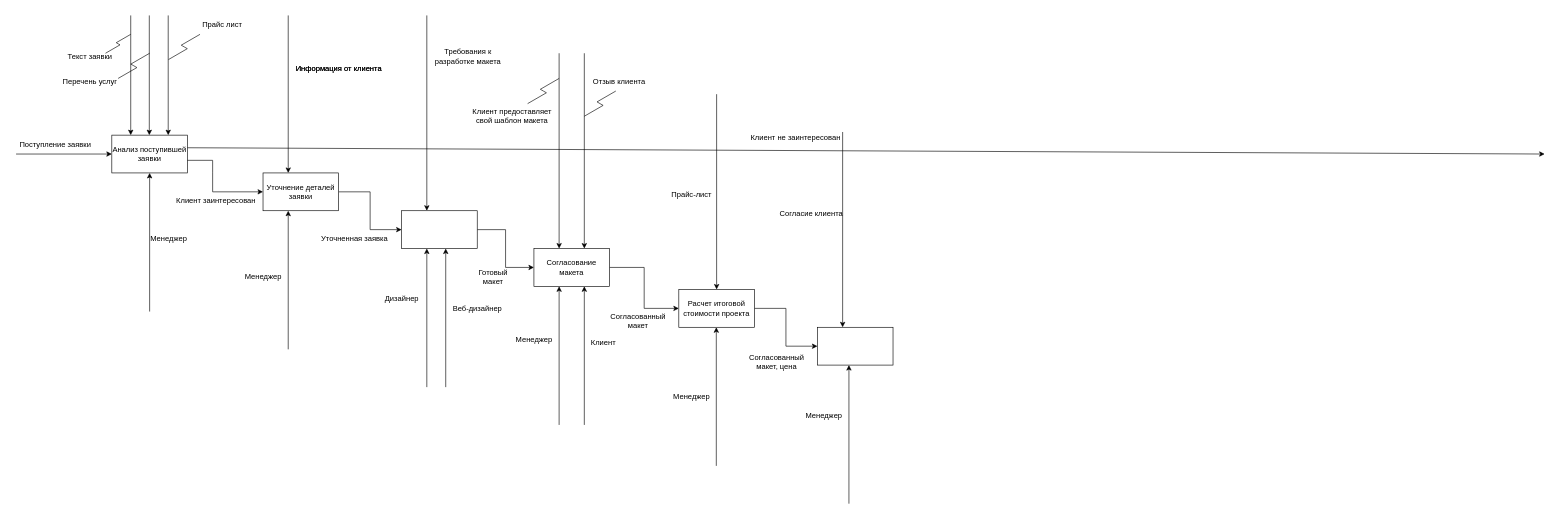
This 1561x520 diagram has some shape labels left out. Here are the shapes that lost their labels. From the top down, the box of each, then its label:
(401, 210, 477, 249): Разработка макета
(817, 327, 893, 365): Формирование договора
